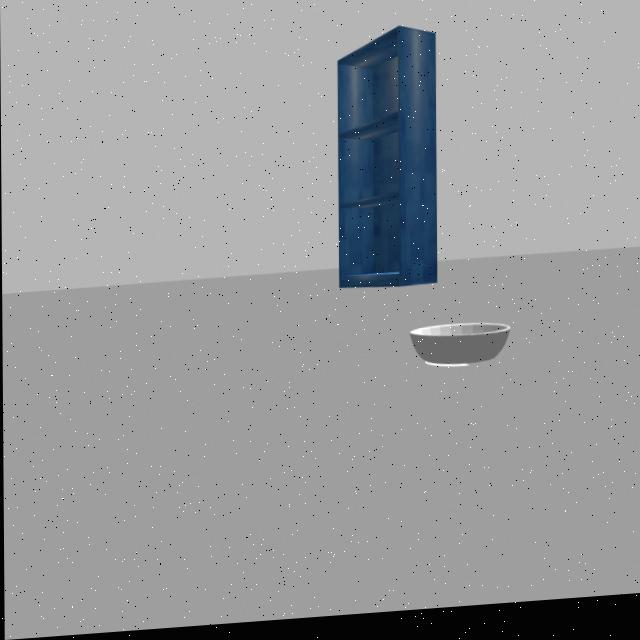bowl: (399, 302, 511, 397)
shelf: (311, 10, 460, 302)
